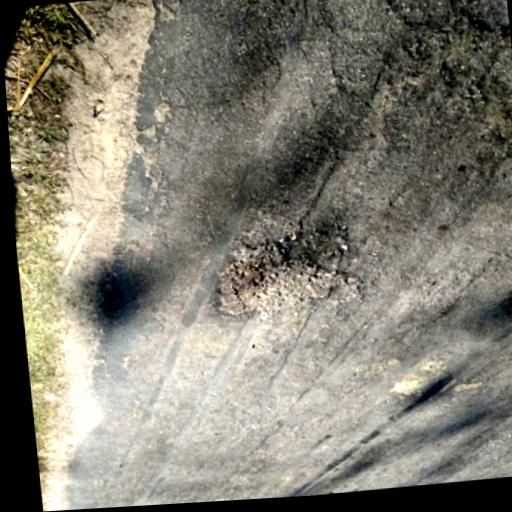pothole: (204, 229, 365, 325)
